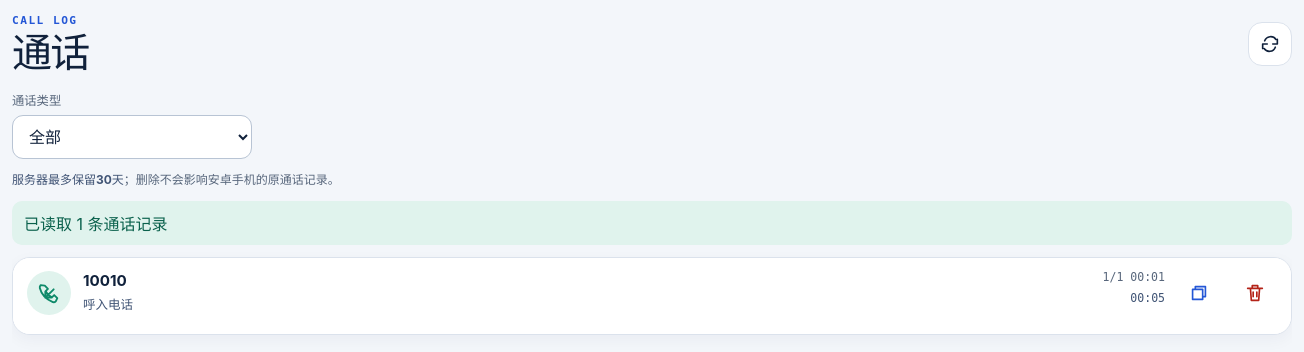
Test: CallsView › 已有通话时后台刷新不闪成加载态且失败不覆盖列表
This screenshot has width=1304, height=352.
Expected: the text "10010" is shown, [83,271,127,290]
Click the button named "刷新通话记录". click: (1270, 44)
box: [1248,22,1292,66]
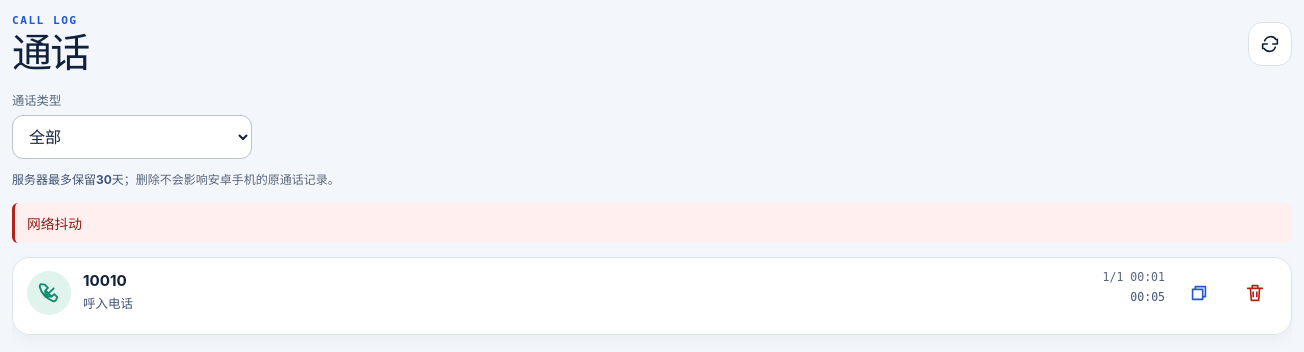
Expected: the text "10010" is shown, [83,270,127,290]
Expected: the text "网络抖动" is shown, [12,203,1292,243]
